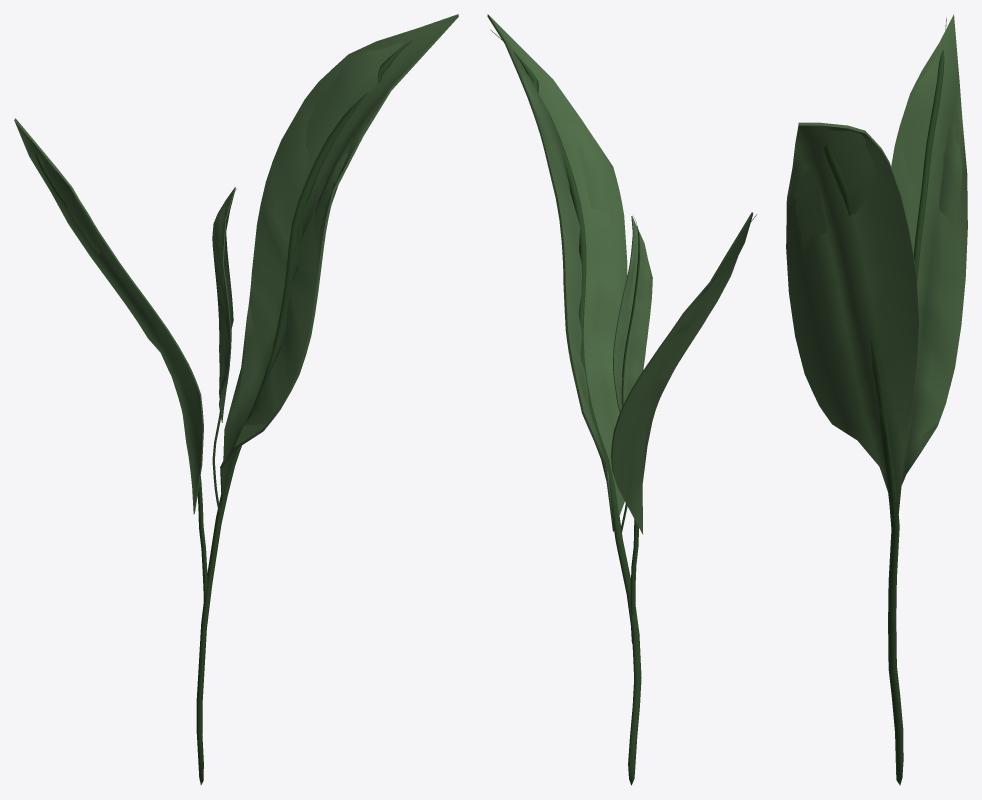
File: leaf_afterSq.fbx
The picture shows the model from 3 angles, left to right: view 1: azimuth 30°, elevation 25°; view 2: azimuth 150°, elevation 25°; view 3: azimuth 270°, elevation 25°; orthographic projection. The views are drawn at different scales.
Parts seen in each view (by area): view 1: pasted__Plane001 (×2), uploads_files_748162_OBJ6:Plane001, pasted__Cylinder001, uploads_files_748162_OBJ6:Cylinder001; view 2: pasted__Plane001 (×2), uploads_files_748162_OBJ6:Plane001, pasted__Cylinder001 (×2), uploads_files_748162_OBJ6:Cylinder001; view 3: pasted__Plane001, uploads_files_748162_OBJ6:Plane001, pasted__Cylinder001, uploads_files_748162_OBJ6:Cylinder001.
Part boxes in pixels (x1=…): pasted__Plane001 (×2): x1=212, y1=14, x2=458, y2=496; uploads_files_748162_OBJ6:Plane001: x1=14, y1=118, x2=203, y2=514; pasted__Cylinder001: x1=196, y1=40, x2=412, y2=785; uploads_files_748162_OBJ6:Cylinder001: x1=17, y1=126, x2=207, y2=601; pasted__Plane001 (×2): x1=487, y1=14, x2=652, y2=531; uploads_files_748162_OBJ6:Plane001: x1=611, y1=212, x2=753, y2=534; pasted__Cylinder001 (×2): x1=490, y1=29, x2=641, y2=785; uploads_files_748162_OBJ6:Cylinder001: x1=630, y1=214, x2=756, y2=644; pasted__Plane001: x1=786, y1=122, x2=918, y2=520; uploads_files_748162_OBJ6:Plane001: x1=891, y1=14, x2=967, y2=484; pasted__Cylinder001: x1=813, y1=127, x2=903, y2=785; uploads_files_748162_OBJ6:Cylinder001: x1=891, y1=17, x2=946, y2=631.
Bounding box in the file's own units: 12.63 × 24.82 × 5.34.
